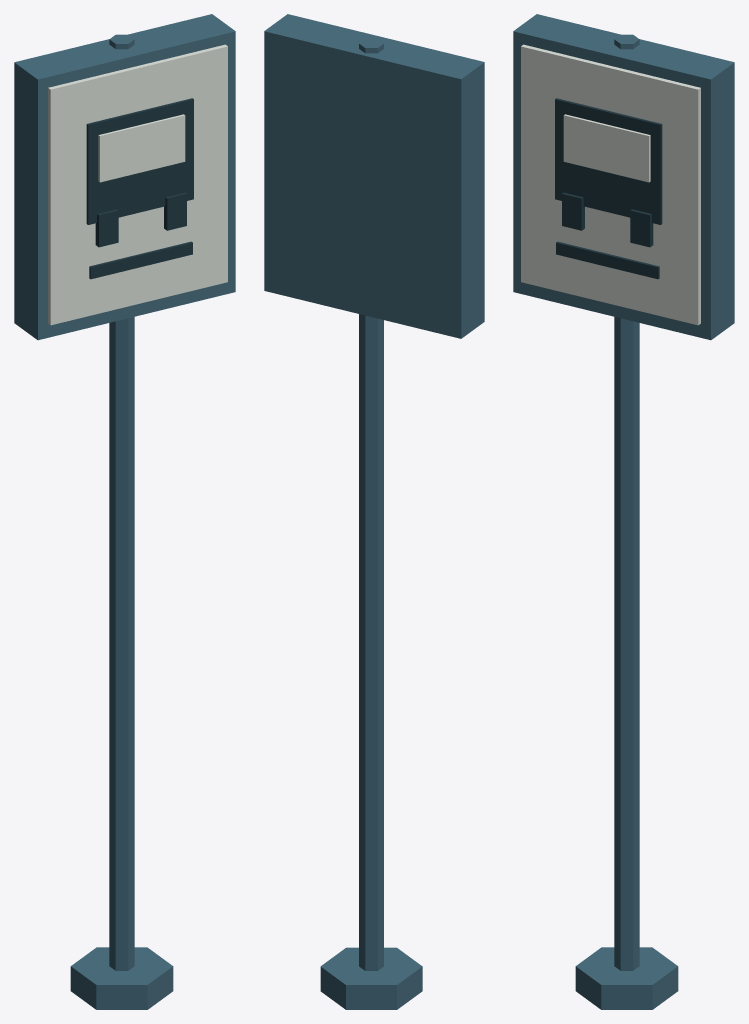
File: bus-stop-pole.lod1.glb
3 renders of one model, left to right at view 1: azimuth 30°, elevation 25°; view 2: azimuth 150°, elevation 25°; view 3: azimuth 330°, elevation 25°, orthographic.
Visible parts, largest first — view 1: module-batch-painted-metal, module-batch-sign-face, module-batch-sign-symbol; view 2: module-batch-painted-metal; view 3: module-batch-painted-metal, module-batch-sign-face, module-batch-sign-symbol.
Boxes of the visible parts, box(x1,y1,x2,y2) form: module-batch-painted-metal: box(14, 14, 235, 1009); module-batch-sign-face: box(48, 44, 227, 325); module-batch-sign-symbol: box(86, 98, 193, 279); module-batch-painted-metal: box(264, 14, 484, 1009); module-batch-painted-metal: box(513, 14, 734, 1009); module-batch-sign-face: box(521, 44, 700, 325); module-batch-sign-symbol: box(555, 98, 662, 279).
Size of the model in its own units: 0.58 by 2.66 by 0.26.
